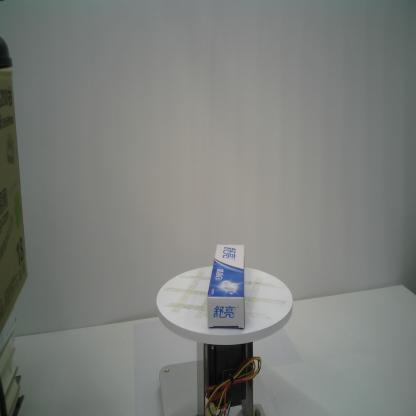Personal Hygiene: (207, 243, 245, 330)
